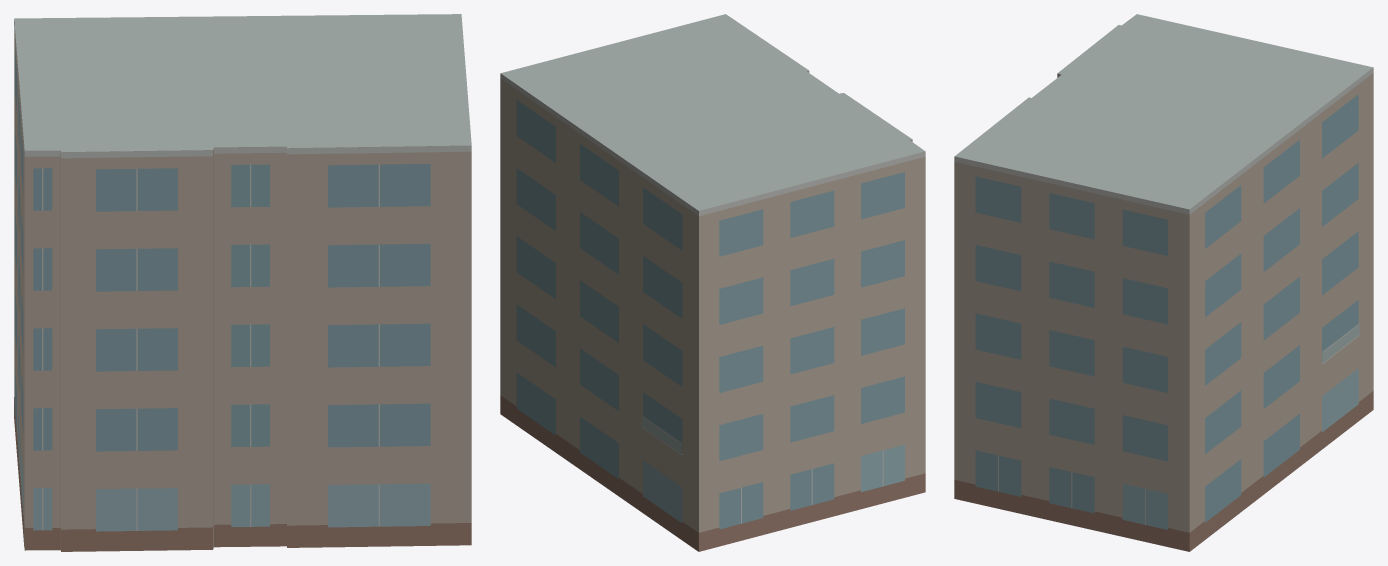
File: survey-upis-32971585.glb
3 views of the same model, side by side, from view 1: azimuth 30°, elevation 25°; view 2: azimuth 150°, elevation 25°; view 3: azimuth 270°, elevation 25° (orthographic). The views are drawn at different scales.
Parts seen in each view (by area): view 1: survey-upis-32971585.tmp; view 2: survey-upis-32971585.tmp; view 3: survey-upis-32971585.tmp.
Boxes of the visible parts, x1,y1,x2,y2 form: survey-upis-32971585.tmp: [14, 14, 471, 551]; survey-upis-32971585.tmp: [500, 14, 925, 551]; survey-upis-32971585.tmp: [954, 14, 1373, 551].
Bounding box in the file's own units: 19.29 × 15.75 × 17.48.
